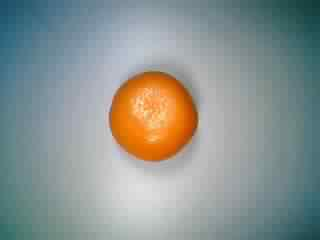orange: (105, 67, 201, 163)
